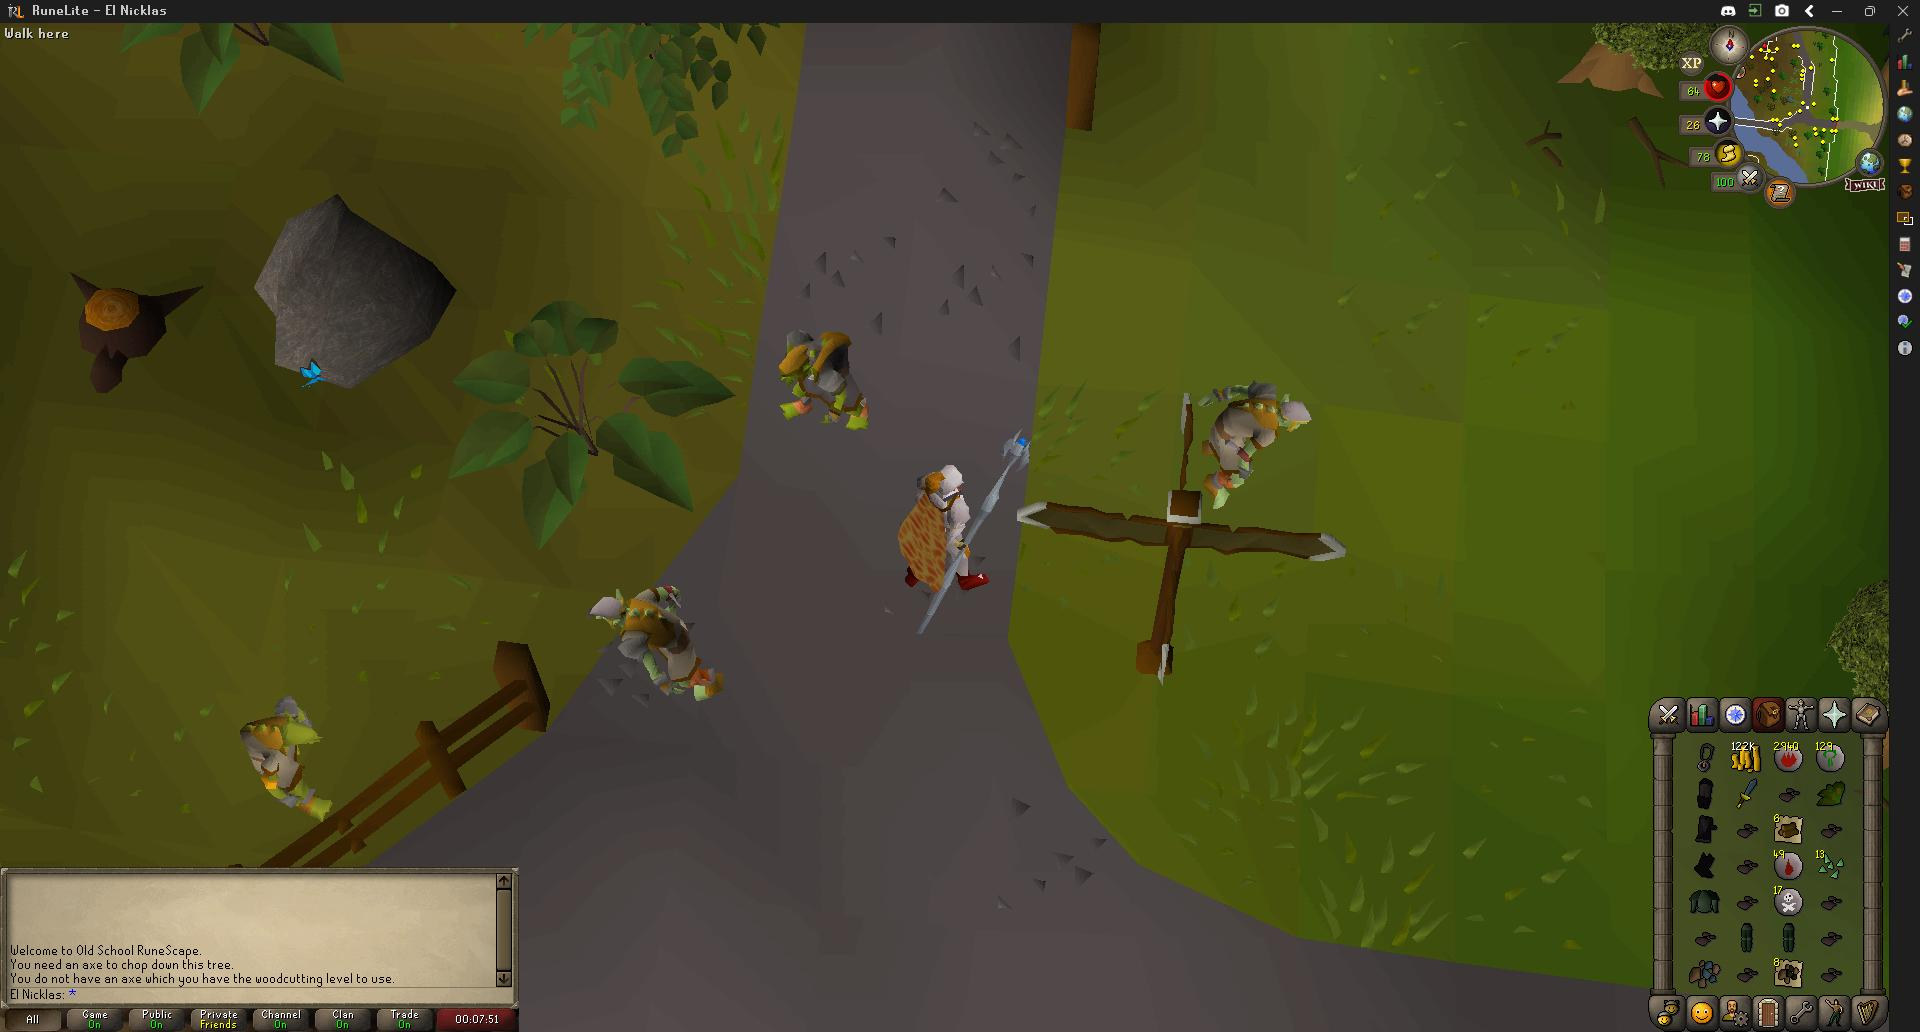Player: (900, 462, 979, 598)
goblin: (590, 583, 723, 694), (1197, 383, 1310, 509), (240, 698, 334, 820), (780, 329, 874, 429)
